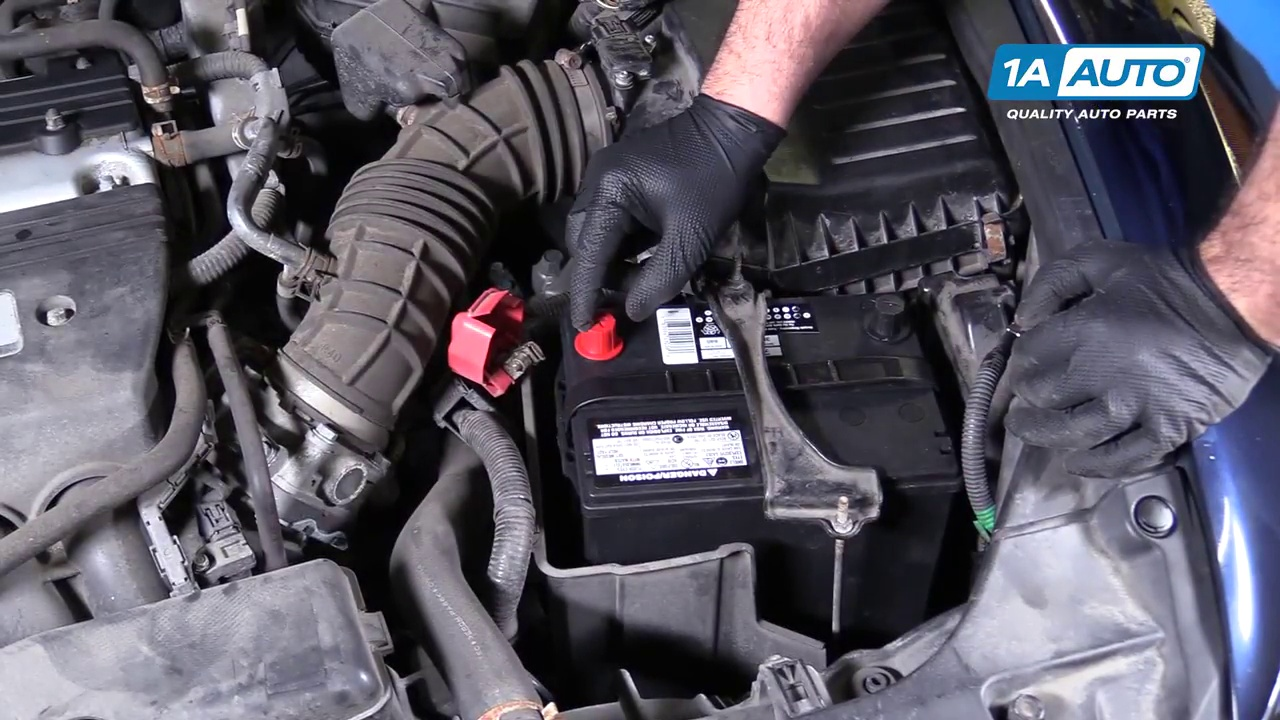battery: (562, 281, 957, 491)
pos_disconnected: (431, 264, 647, 400)
pos_touched: (430, 190, 703, 380)
